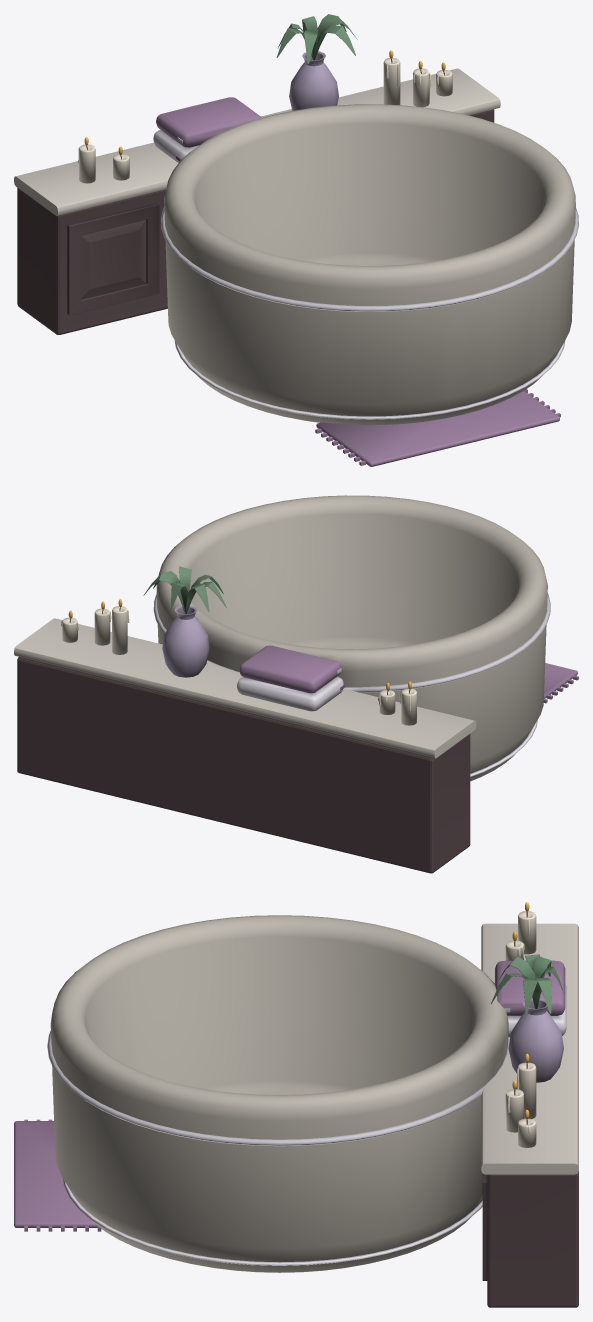
Rendered from soakingTub.glb.
The picture shows the model from 3 angles, top to bottom: view 1: azimuth 30°, elevation 25°; view 2: azimuth 150°, elevation 25°; view 3: azimuth 270°, elevation 25°; orthographic projection. The views are drawn at different scales.
Parts seen in each view (by area): view 1: body; view 2: body; view 3: body.
Boxes of the visible parts, bbox=[...] form: body: bbox=[14, 14, 578, 466]; body: bbox=[14, 495, 578, 873]; body: bbox=[14, 902, 578, 1307].
Size of the model in its own units: 1.86 by 0.9249 by 1.85.
